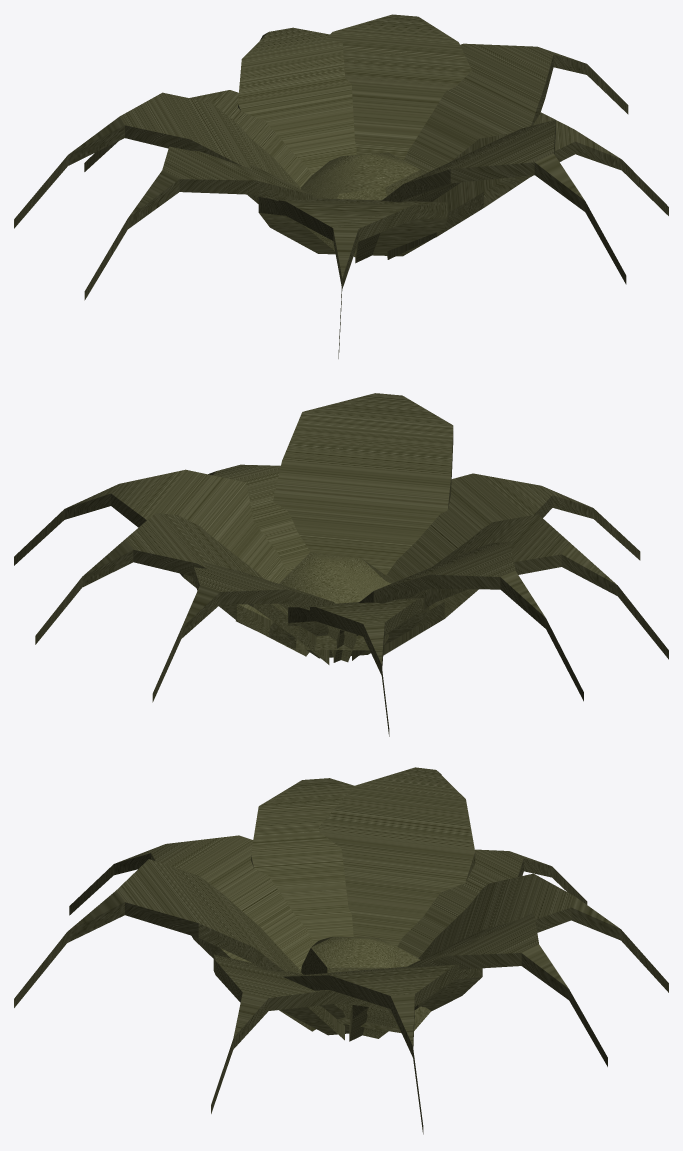
File: fern_5.glb
3 views of the same model, one above another, from view 1: azimuth 30°, elevation 25°; view 2: azimuth 150°, elevation 25°; view 3: azimuth 270°, elevation 25° (orthographic). The views are drawn at different scales.
Visible parts, largest first — view 1: fern_5; view 2: fern_5; view 3: fern_5.
Part boxes in pixels (box(x1,y1,x2,y2)): fern_5: box(14, 14, 668, 358); fern_5: box(14, 393, 668, 736); fern_5: box(14, 767, 668, 1134).
Size of the model in its own units: 2.31 by 0.5695 by 2.13.
Materials: 1 (1 with a texture image).
